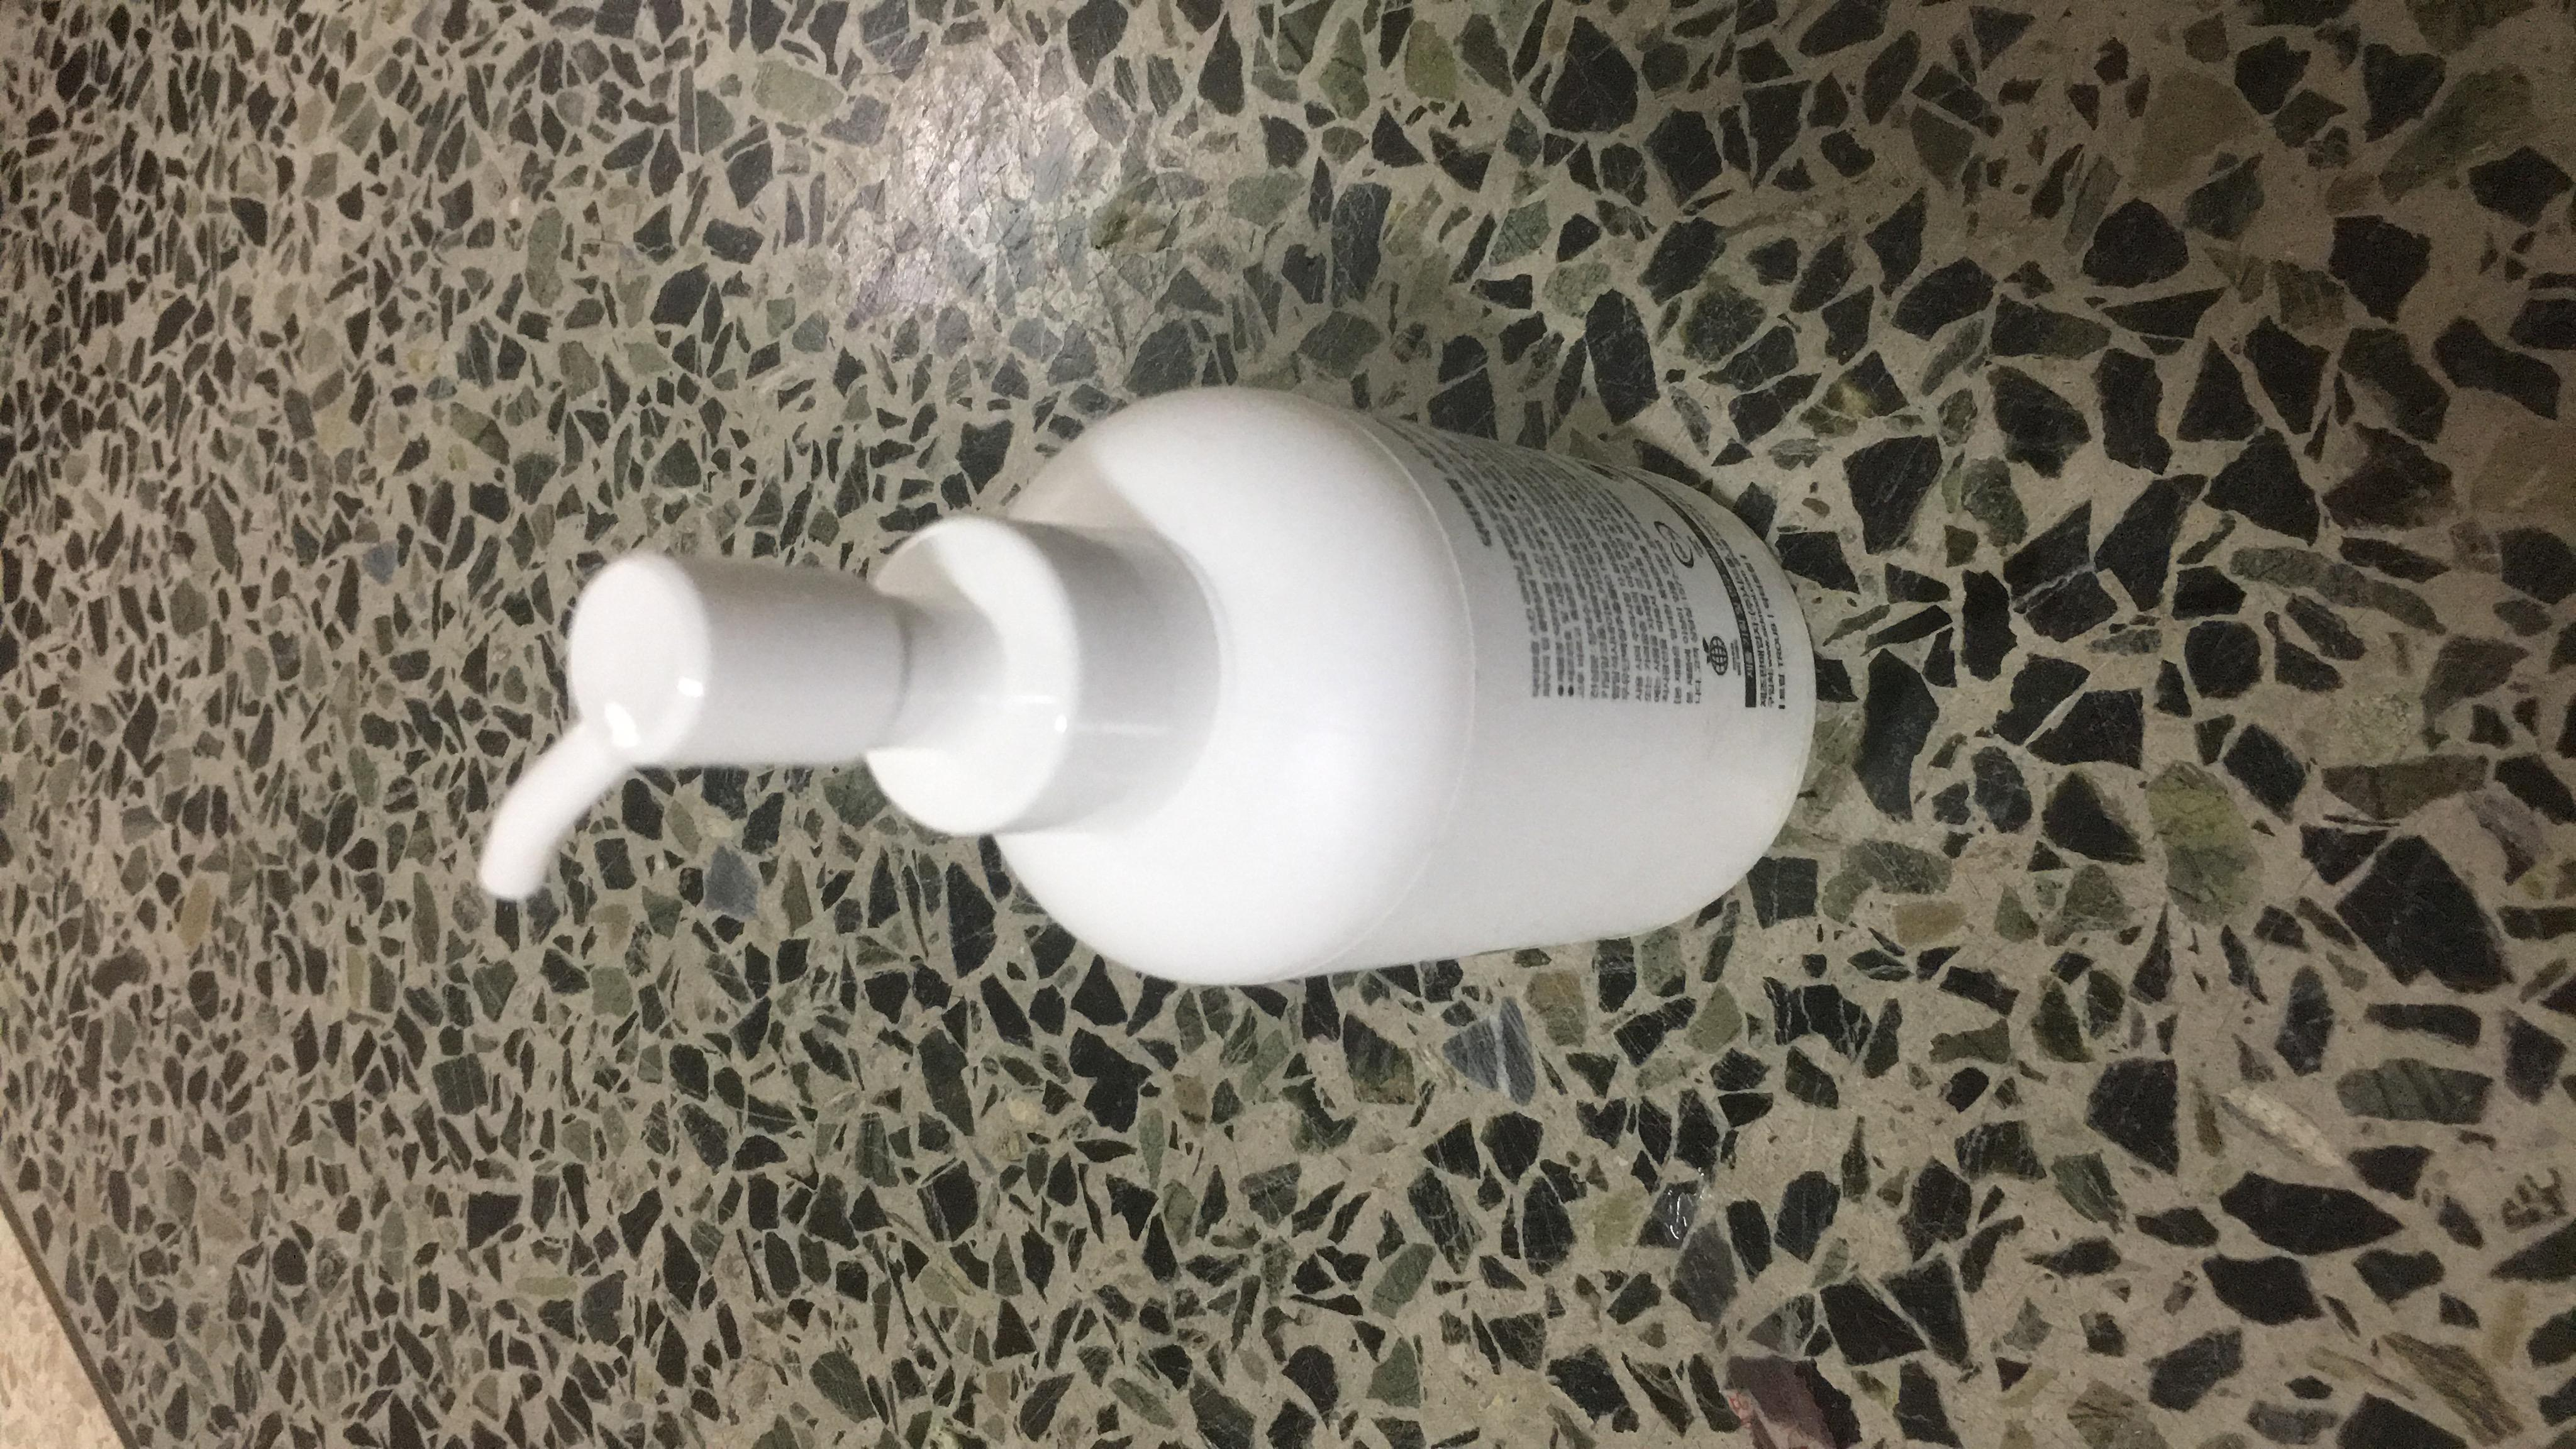bottle: (630, 193, 1920, 1056)
